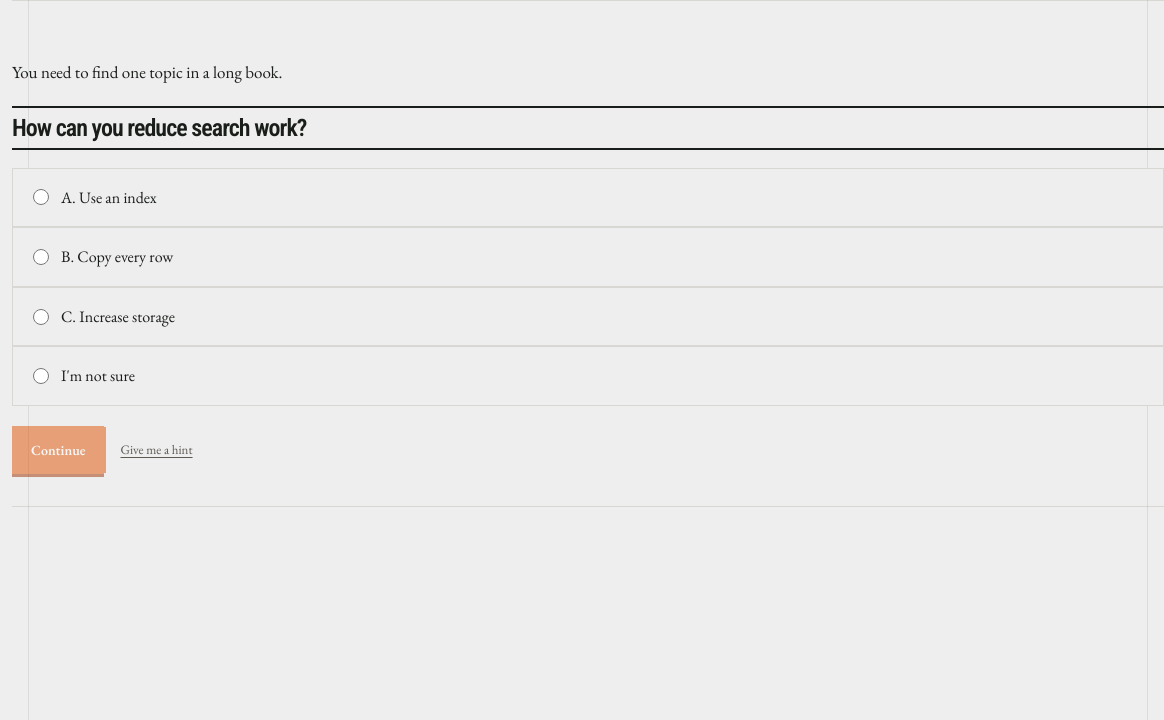
starts guided practice automatically, shows one question, and submits a choice with hint usage
Expected: the heading "How can you reduce search work?" is shown, [12,114,306,142]
Expected: the button "Continue" is disabled, [12,426,104,474]
Click the button "Give me a hint": {"x": 157, "y": 450} [120,428,193,472]
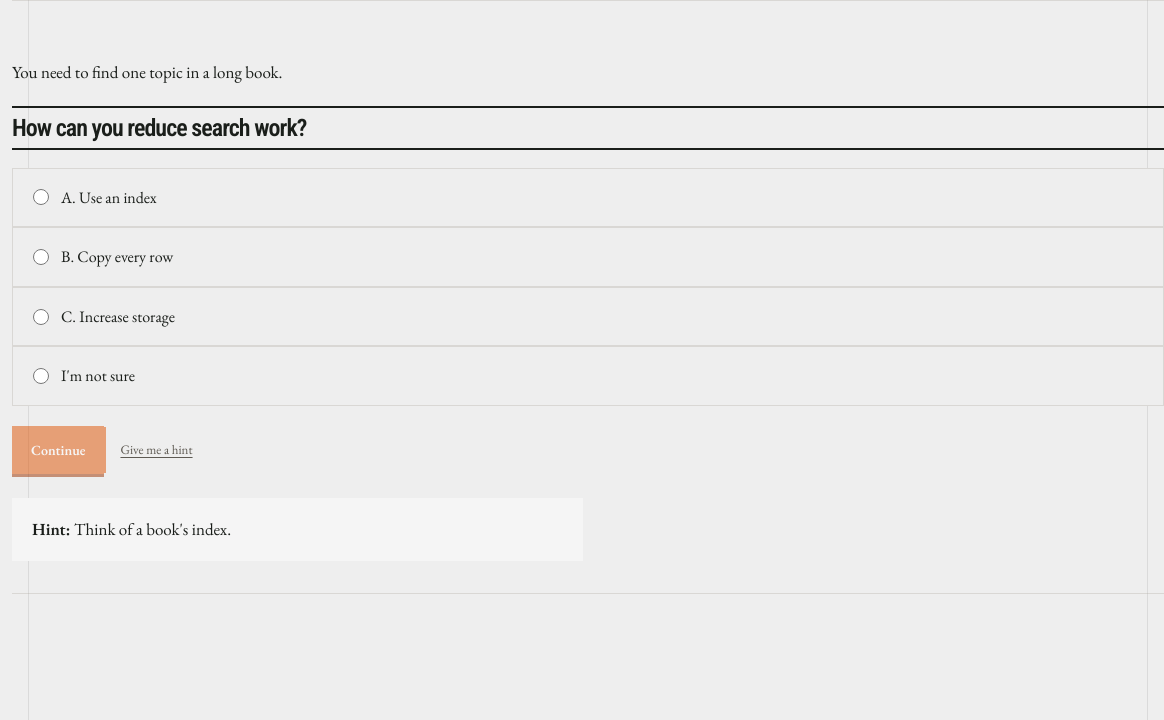
Expected: the message shows "Think of a book's index.", [74,518,231,540]
Click the radio button labelled "A. Use an index": {"x": 41, "y": 197} [33,189,49,205]
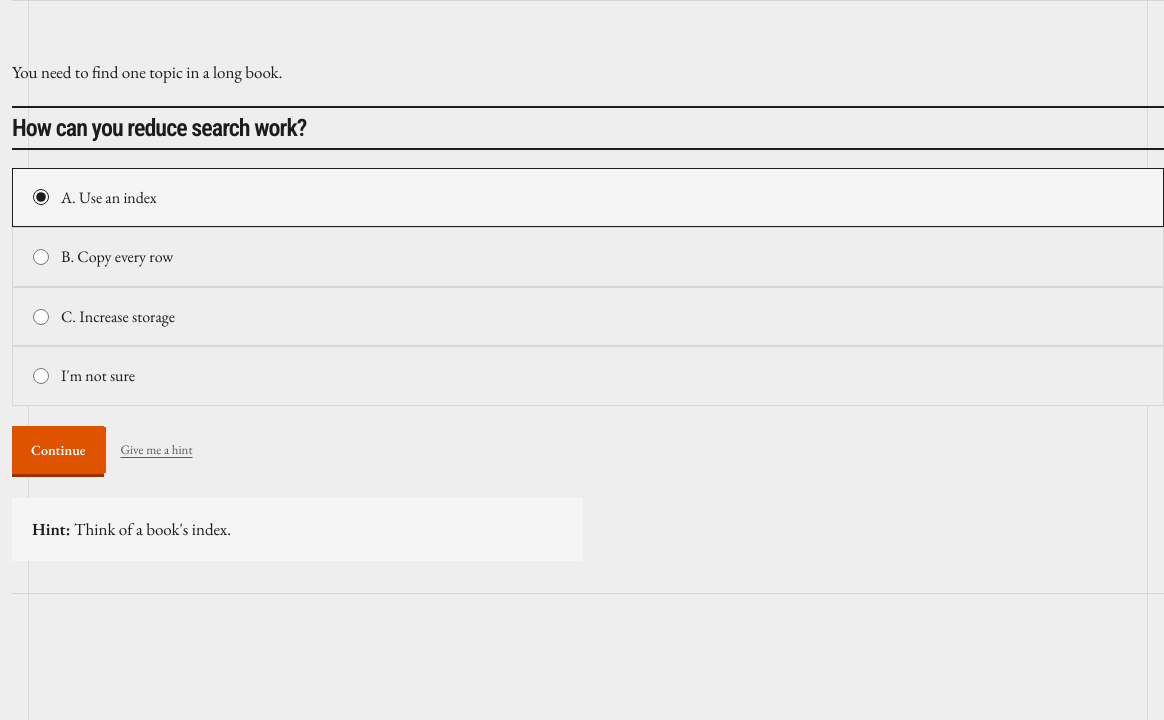
Click the button "Continue": {"x": 58, "y": 450} [12,426,104,474]
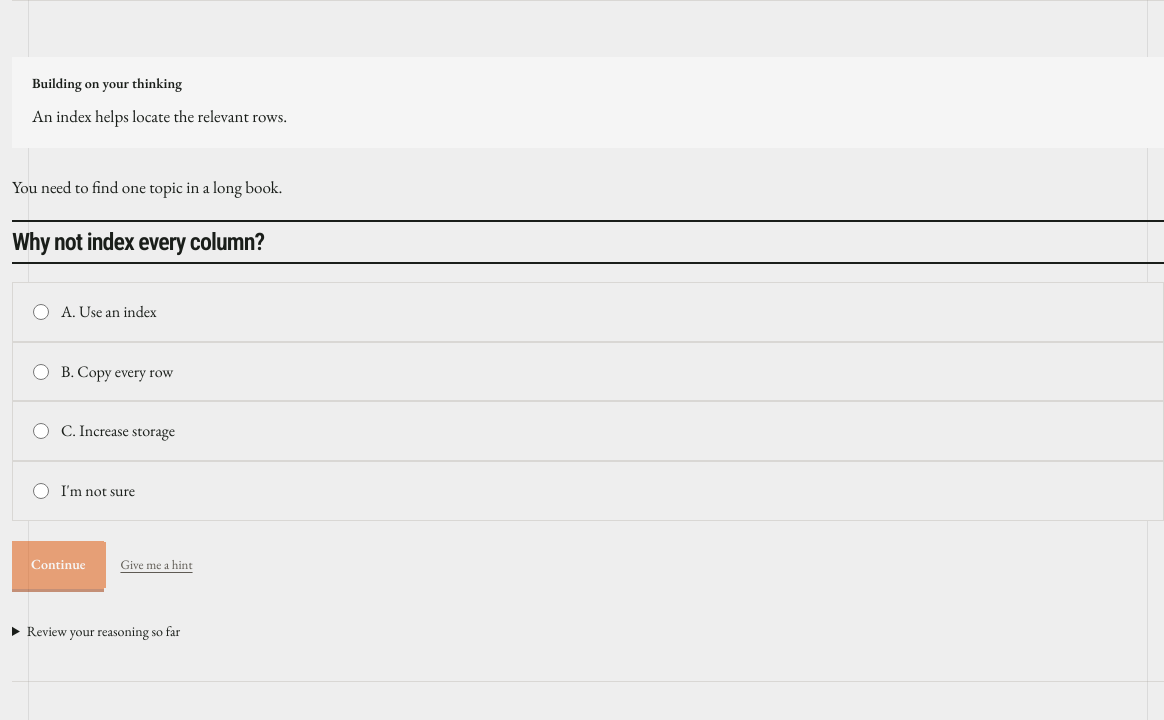
Expected: the heading "How can you reduce search work?" is gone
Expected: the button "Continue" is disabled, [12,541,104,589]
